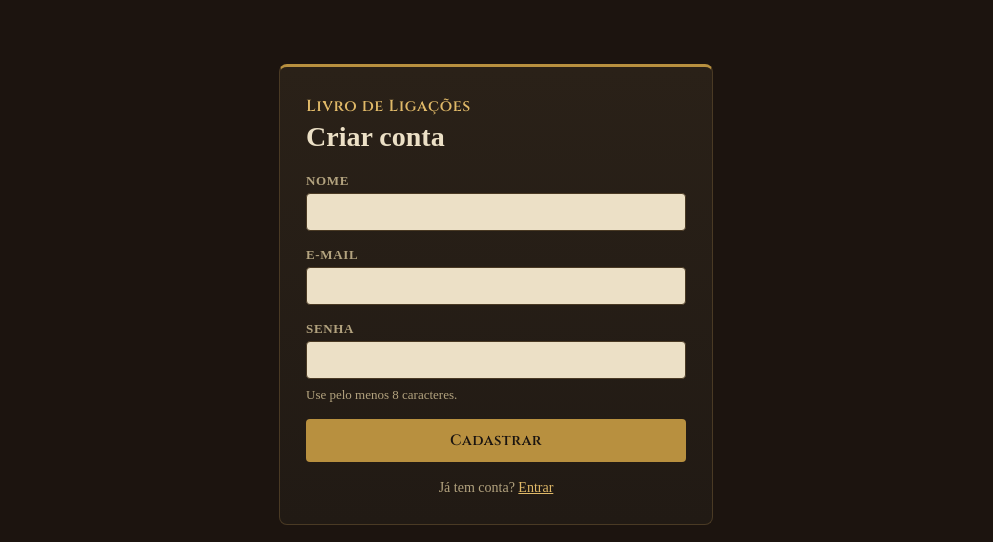
Test: cadastro › cadastra com nome, e-mail e senha e navega para /campanhas
Type "Jogador Novo" into the field labelled "Nome". click: {"x": 496, "y": 212}
box: [306,193,686,231]
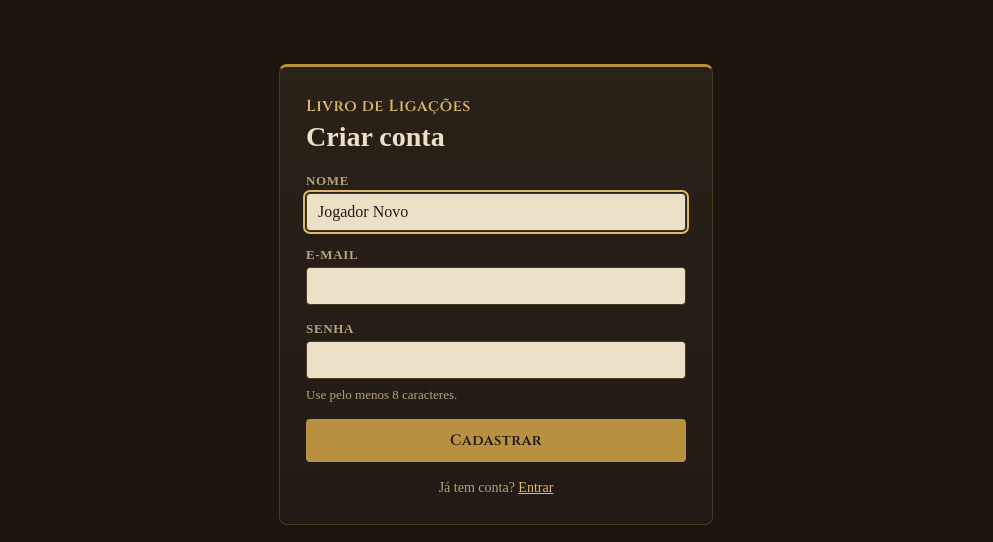
Type "novo@example.com" into the field labelled "E-mail". click: {"x": 496, "y": 286}
box: [306,267,686,305]
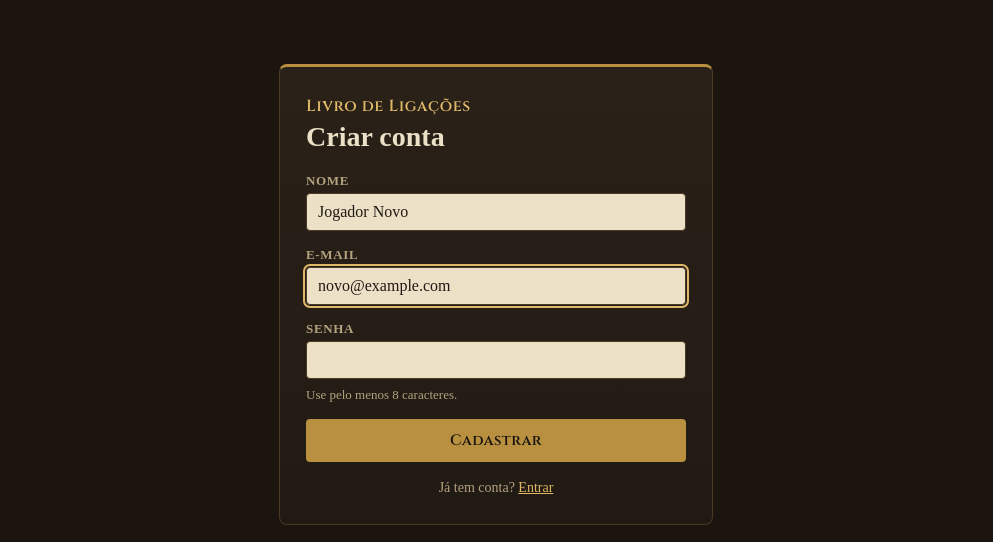
Type "senha-secreta" into the password field labelled "Senha". click: {"x": 496, "y": 360}
box: [306,341,686,379]
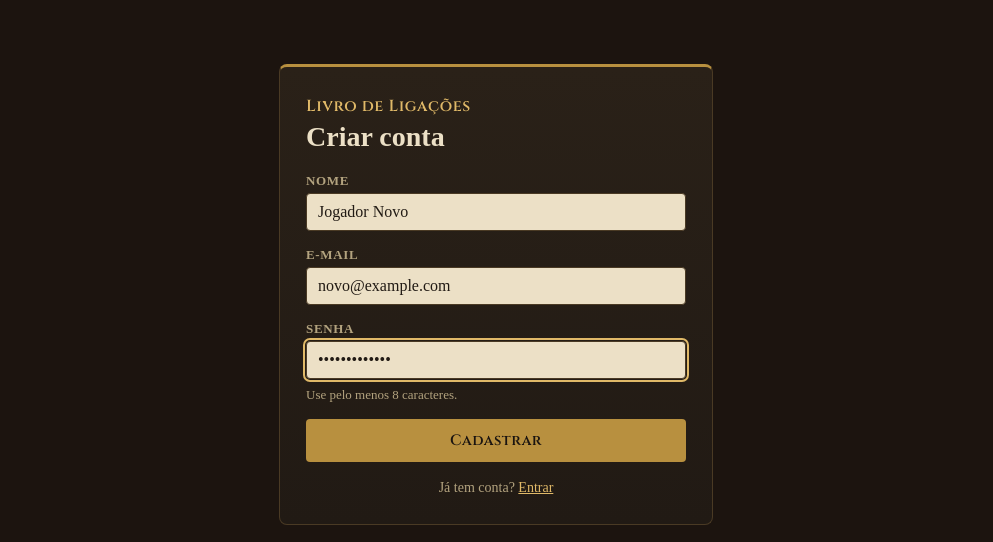
Click the button "Cadastrar". click: {"x": 496, "y": 440}
box: [306,419,686,462]
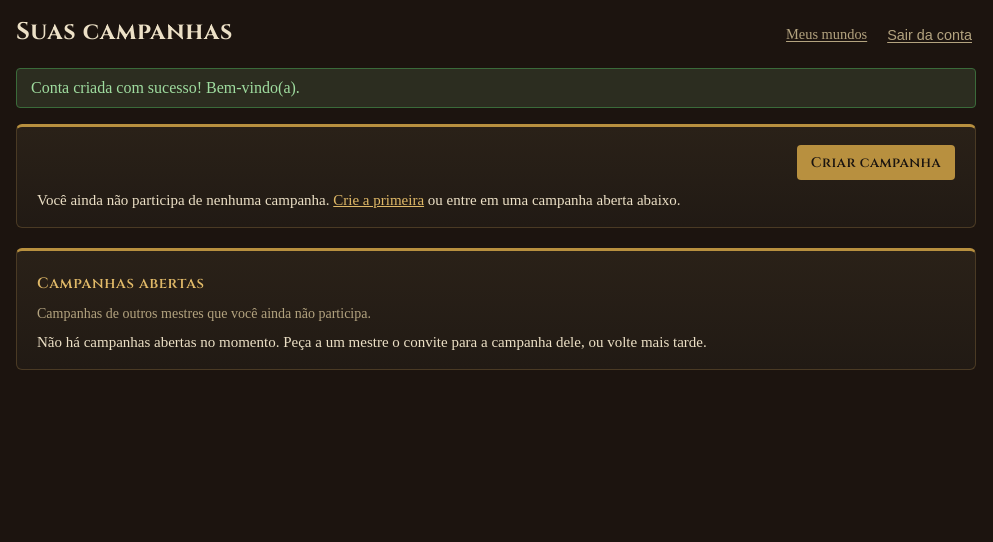
Now the heading "Suas campanhas" is shown, box [16,16,233,48]
